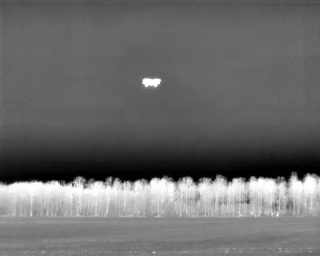DRONE: (138, 72, 165, 93)
